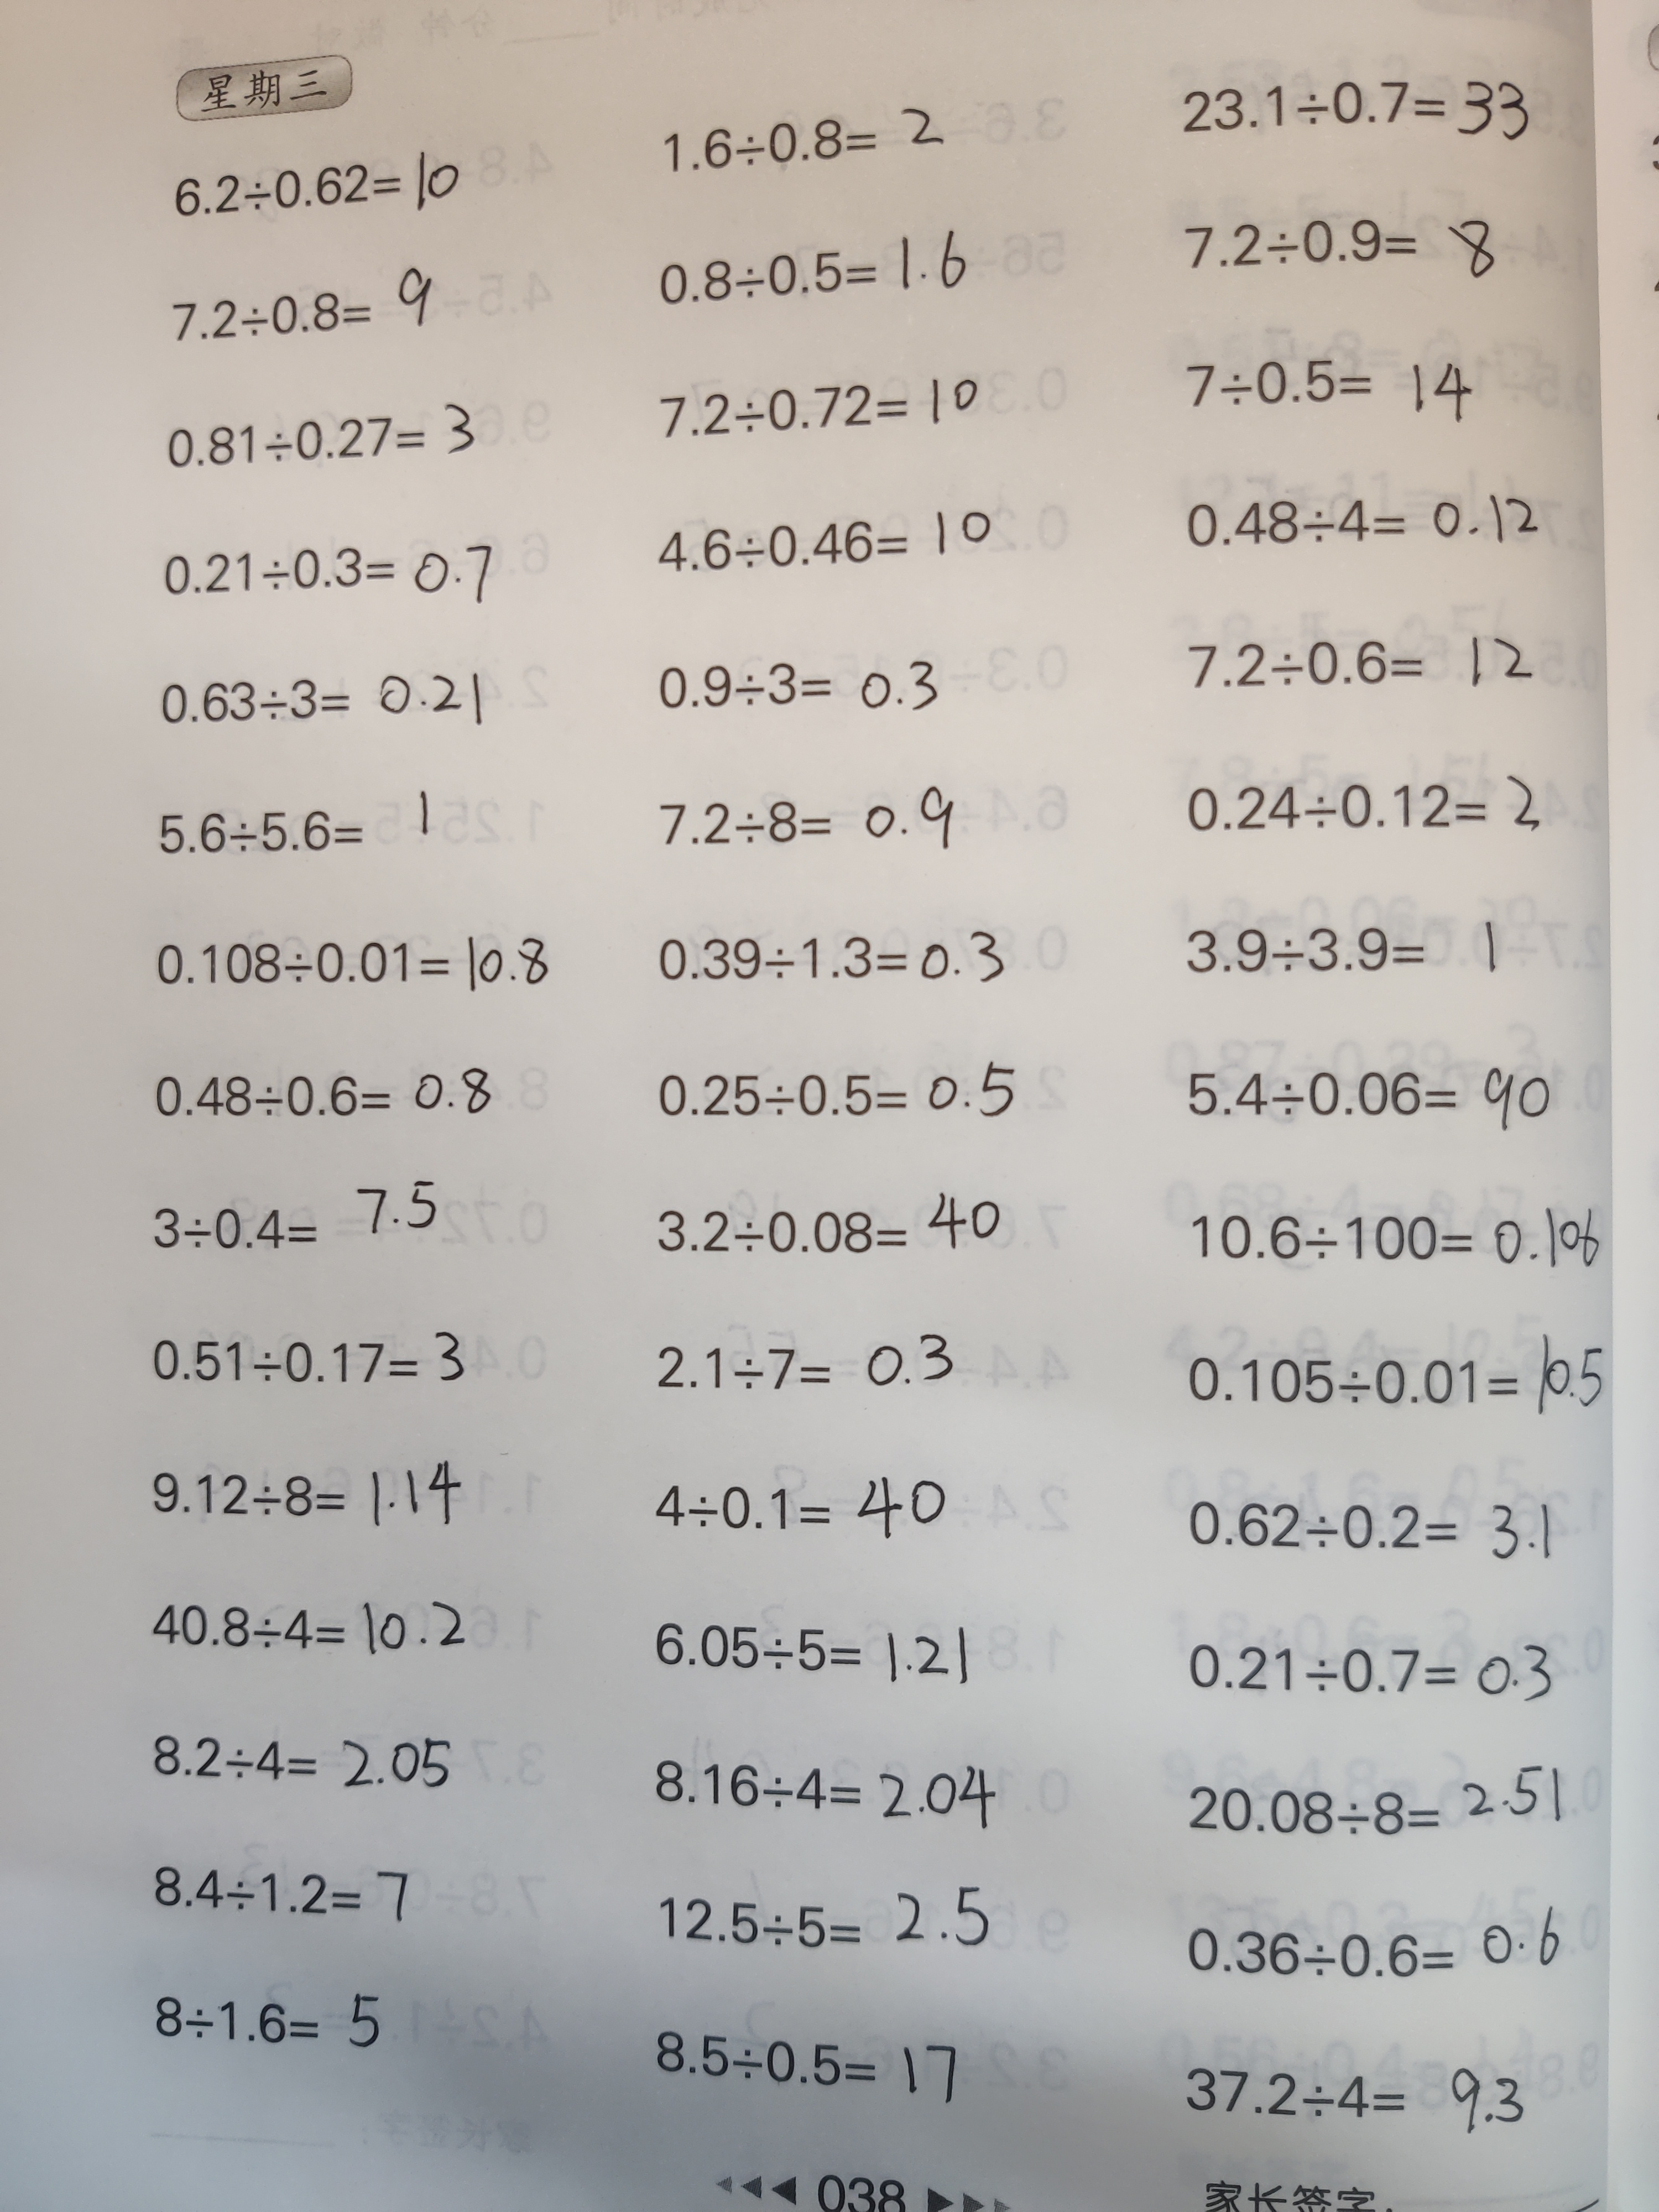equation: (1164, 740, 1561, 853), (1176, 1616, 1568, 1730), (136, 914, 563, 1017), (638, 1860, 1006, 1979), (1171, 1475, 1567, 1585), (1171, 1327, 1607, 1426), (1175, 1745, 1572, 1853), (638, 1174, 1016, 1287), (1182, 1042, 1567, 1150), (1162, 892, 1528, 1005), (1161, 2047, 1542, 2155), (1175, 1188, 1605, 1282), (633, 765, 985, 880), (145, 517, 498, 631), (638, 1597, 983, 1709), (1176, 1902, 1579, 1996), (643, 1740, 999, 1846), (1171, 599, 1537, 702), (652, 916, 1011, 1017), (645, 1055, 1030, 1150), (124, 1313, 472, 1416), (145, 773, 465, 885), (143, 1045, 502, 1144), (141, 1578, 491, 1679), (138, 1707, 471, 1813), (1169, 63, 1544, 157), (638, 2012, 974, 2116), (650, 352, 992, 455), (132, 657, 502, 751), (131, 1449, 477, 1548), (1169, 331, 1490, 435), (1164, 481, 1547, 568), (645, 500, 1009, 590), (640, 1317, 974, 1414), (648, 1461, 962, 1562), (155, 394, 497, 486), (648, 632, 955, 733), (1175, 204, 1502, 298), (655, 226, 979, 320), (138, 1169, 446, 1266), (160, 254, 453, 354), (662, 94, 971, 188), (143, 1834, 427, 1933), (132, 1977, 415, 2069), (153, 138, 471, 214)
